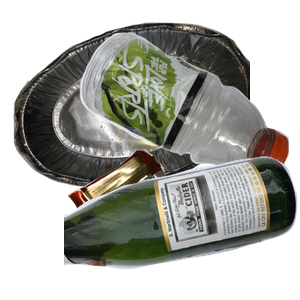glass: (64, 154, 300, 300)
metal: (11, 20, 251, 200)
plastic: (77, 30, 300, 198)
trash: (65, 148, 258, 300)
